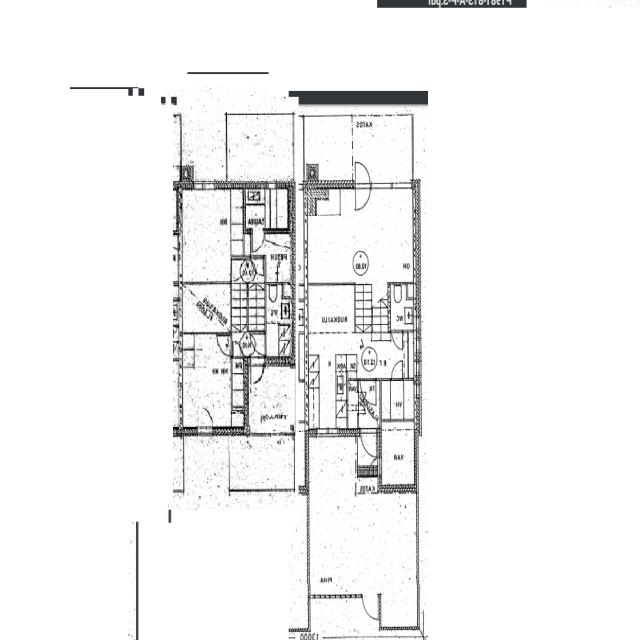door: (356, 180, 370, 211), (356, 158, 370, 189), (362, 429, 376, 460), (360, 379, 376, 405), (362, 596, 378, 622), (251, 358, 264, 387), (252, 336, 268, 356), (230, 260, 245, 280), (217, 336, 232, 356), (251, 256, 264, 279), (366, 458, 382, 476), (252, 230, 264, 250), (392, 362, 403, 381), (392, 330, 403, 349), (233, 342, 243, 362), (357, 393, 366, 404), (357, 404, 366, 414)
